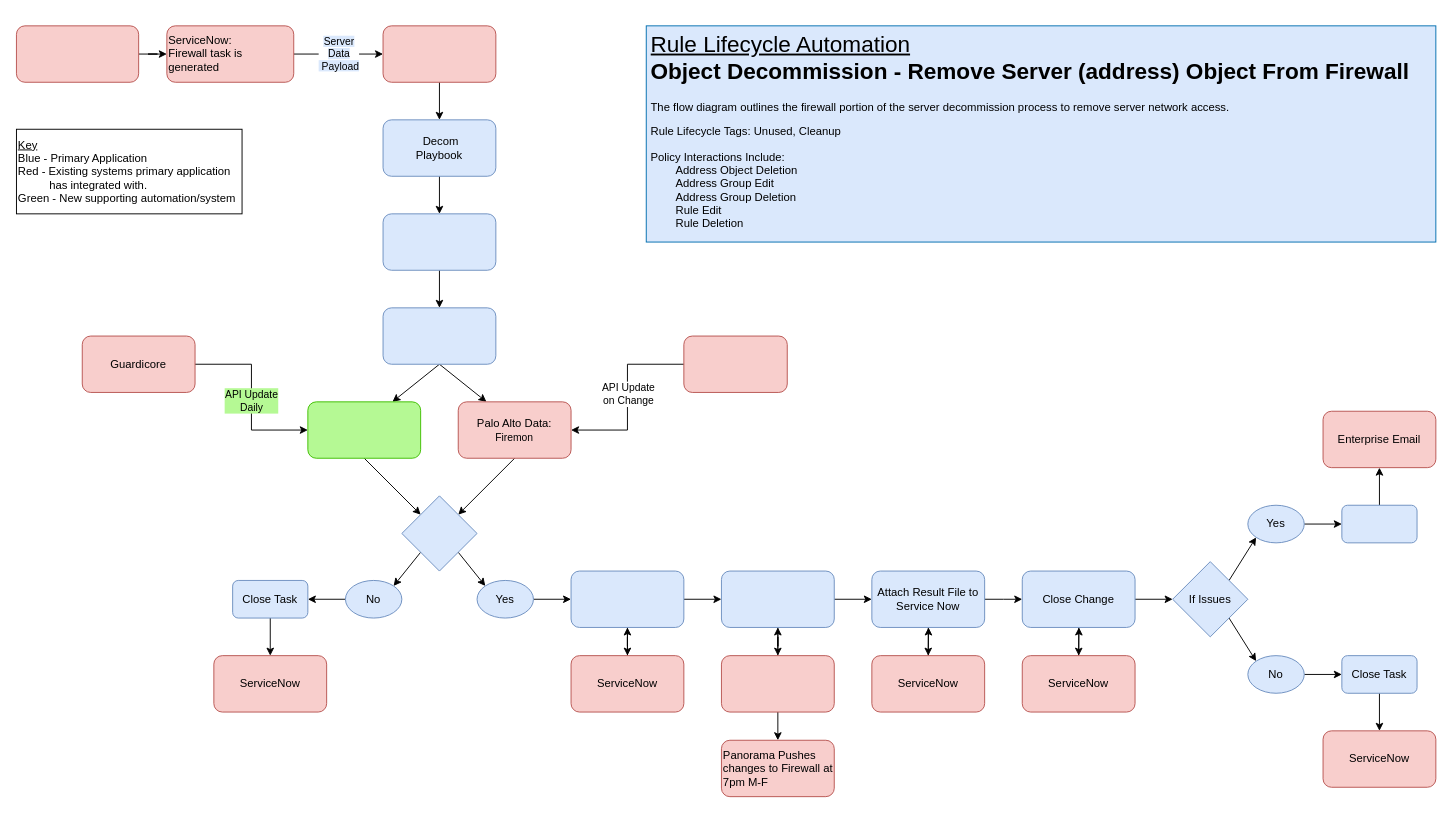
The diagram is 1452 pixels wide and 813 high, and some of its shapes have lost their labels. Here are the shapes that lost their labels. From the top down, the centre of each, then its label:
[77,53]: ServiceNow: User Submits Server Decommission Request
[439,53]: Ansible Tower
[439,241]: Executes Python Program
[439,335]: SQL Query
[735,363]: Palo Alto Firewall
[364,429]: Guardicore Data: Postgres DB
[439,533]: If Found
[1379,523]: Email
[627,598]: Open Standard Change
[777,598]: Perform Change
[777,683]: Guardicore & Panorama(s)
